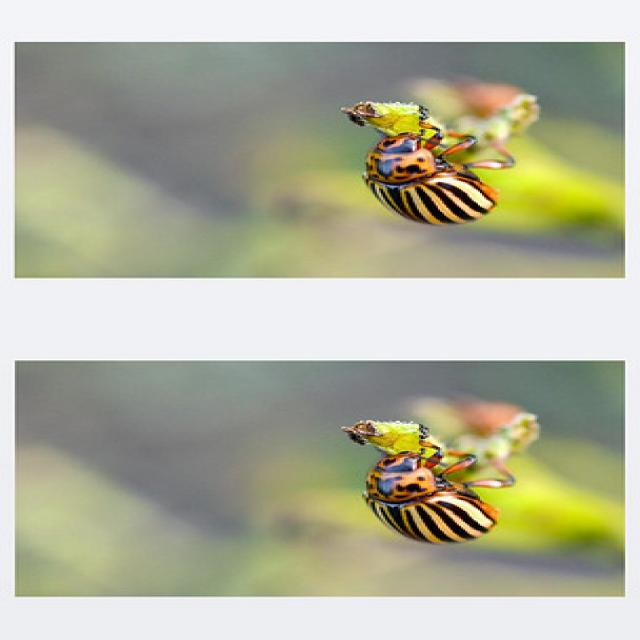ShuCaiHuaBanChong-Grown-: (344, 451, 537, 563), (360, 112, 524, 228)
